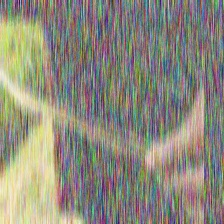Leaf_Blast: (7, 92, 136, 137)
